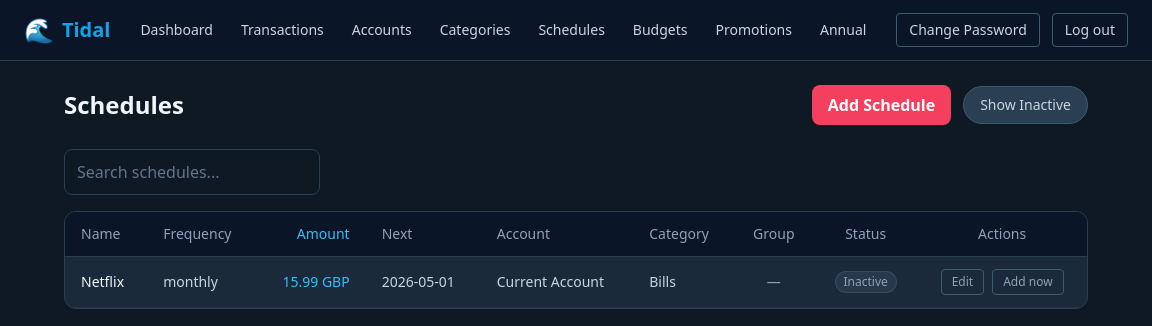
SchedulesPage › toggles a schedule from inactive to active when the badge is clicked
Click the button "Inactive". click: [866, 282]
box: [834, 271, 897, 293]
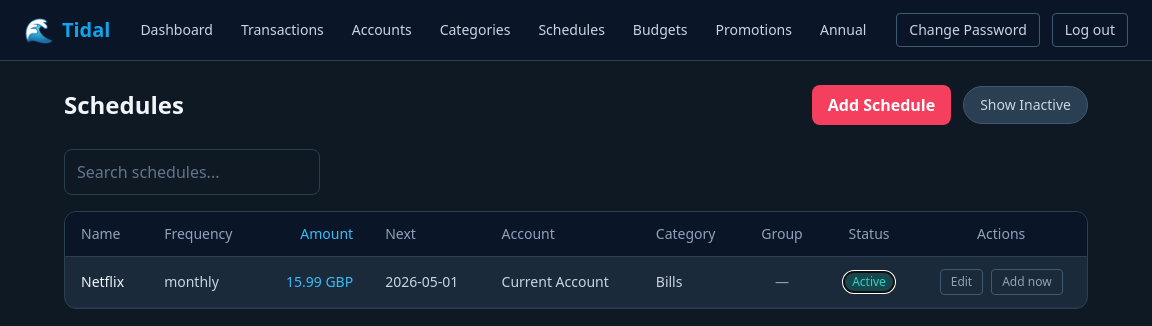
Now the button "Active" is shown, box [843, 271, 895, 293]
